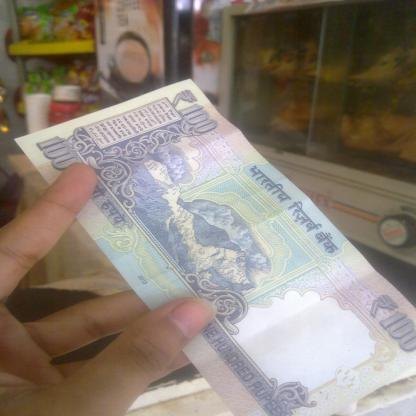Old100Back: (14, 78, 415, 415)
